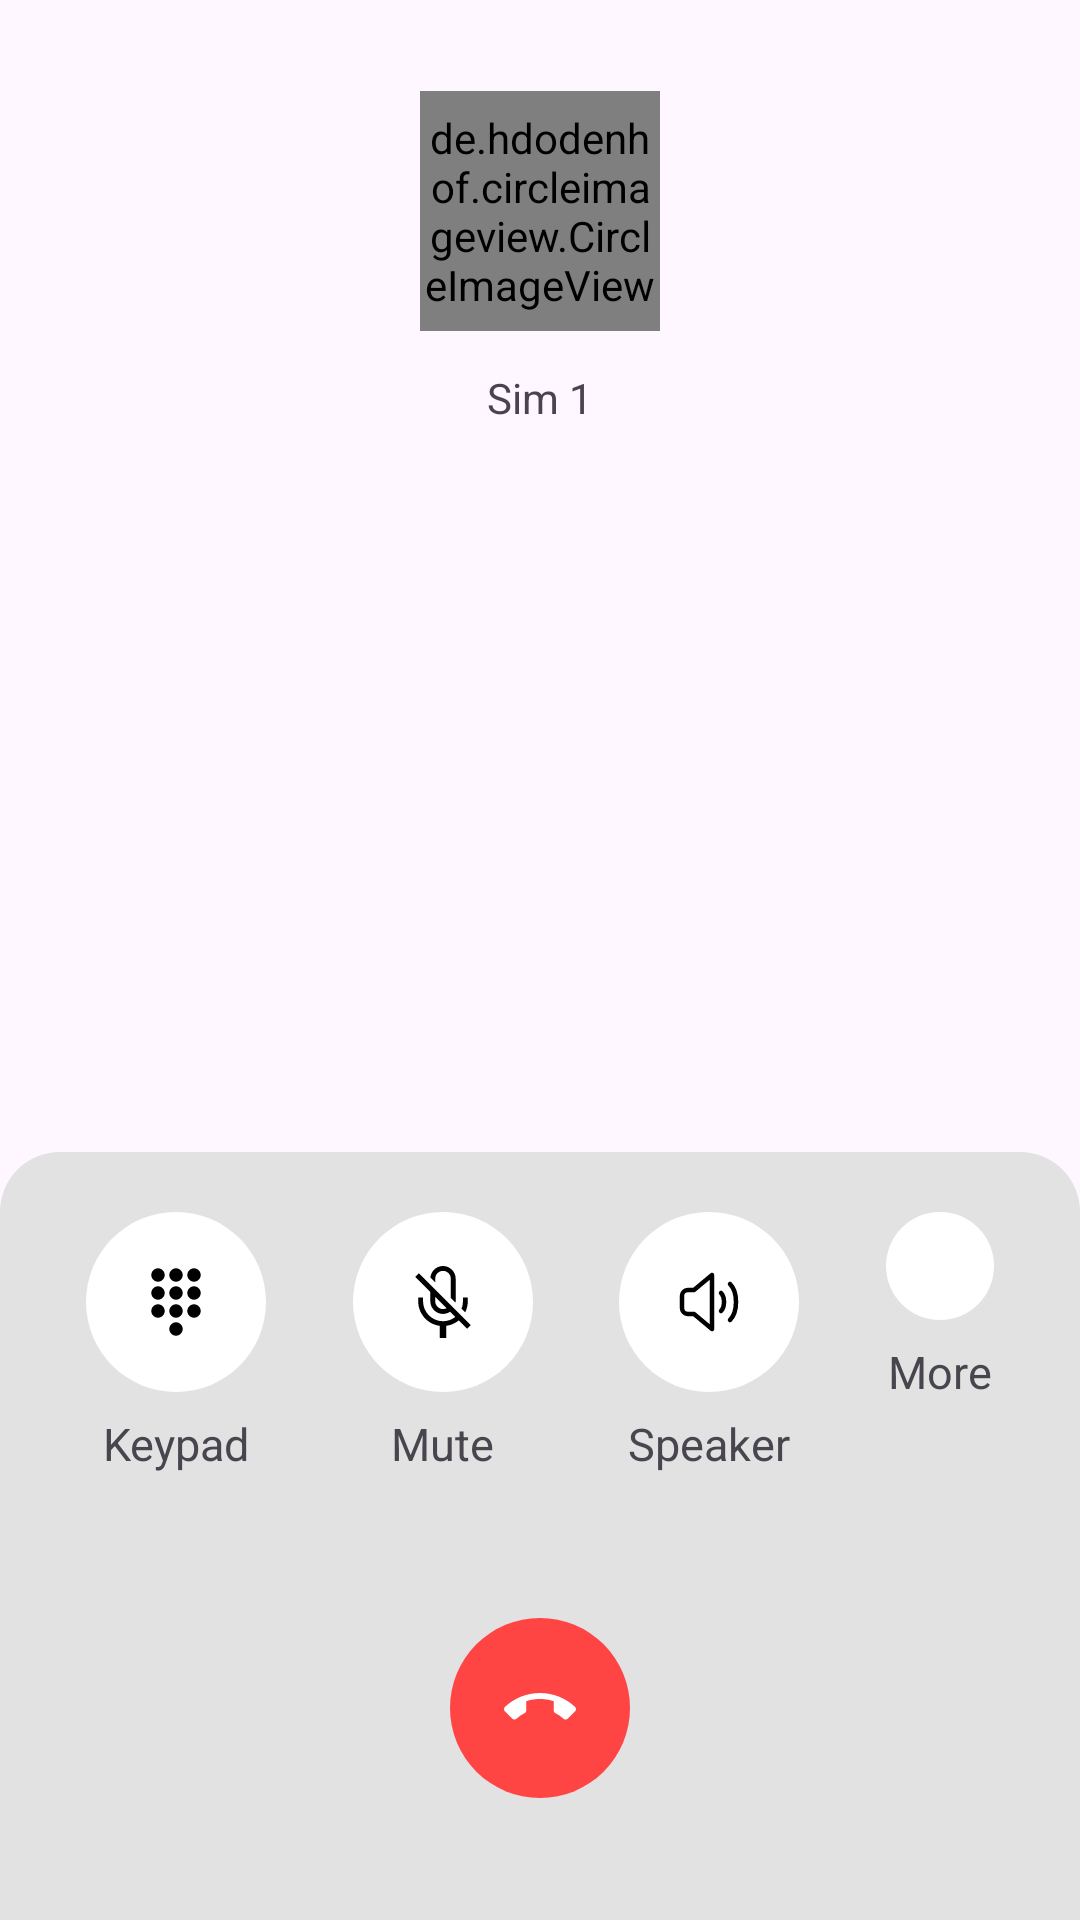

Icon click points for this 1080 x 1920 phone screenshot, format [x,y]:
call end: [540,1708]
